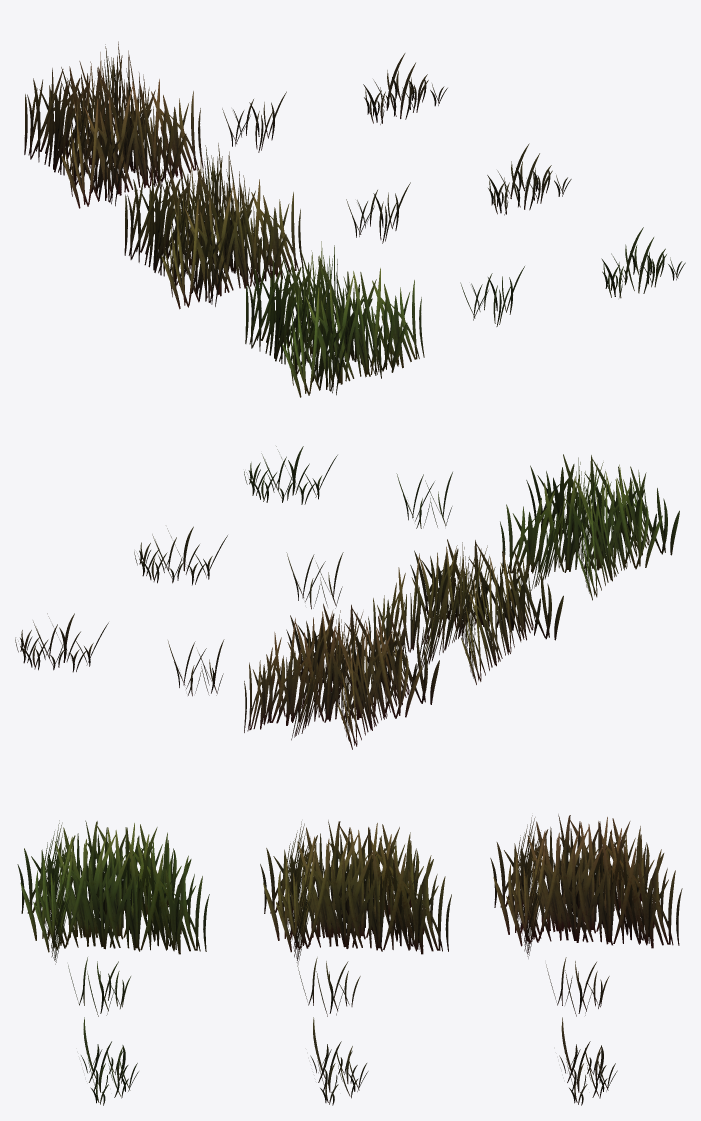
File: pasto.glb
3 views of the same model, one above another, from view 1: azimuth 30°, elevation 25°; view 2: azimuth 150°, elevation 25°; view 3: azimuth 270°, elevation 25° (orthographic). The views are drawn at different scales.
Parts seen in each view (by area): view 1: yellow-material (×3), mid-material (×3), green-material (×3); view 2: yellow-material (×3), green-material (×3), mid-material (×3); view 3: green-material (×3), yellow-material (×3), mid-material (×3).
Part boxes in pixels (x1=…): yellow-material (×3): x1=24, y1=41, x2=447, y2=208; mid-material (×3): x1=124, y1=143, x2=571, y2=309; green-material (×3): x1=245, y1=227, x2=685, y2=397; yellow-material (×3): x1=15, y1=603, x2=439, y2=749; green-material (×3): x1=244, y1=446, x2=679, y2=600; mid-material (×3): x1=134, y1=526, x2=563, y2=684; green-material (×3): x1=17, y1=820, x2=209, y2=1105; yellow-material (×3): x1=490, y1=814, x2=682, y2=1105; mid-material (×3): x1=260, y1=820, x2=451, y2=1105.
Size of the model in its own units: 2.78 by 0.7667 by 3.74.
Materials: 3 (3 with a texture image).
